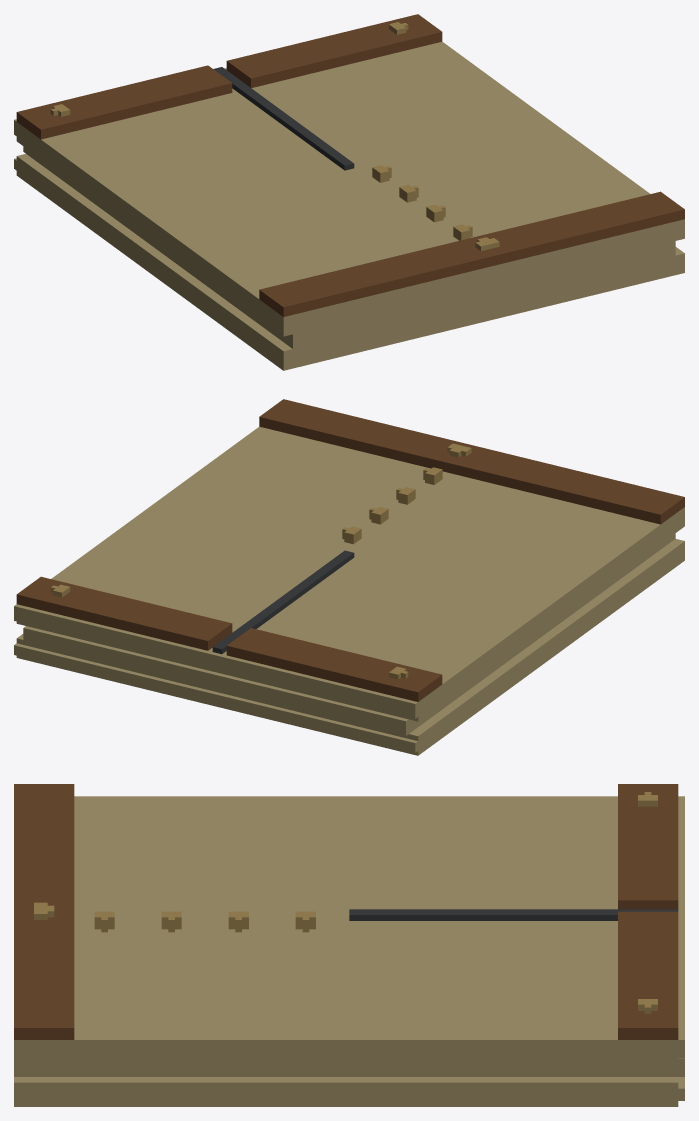
The model's file is breeches.glb.
The picture shows the model from 3 angles, top to bottom: view 1: azimuth 30°, elevation 25°; view 2: azimuth 150°, elevation 25°; view 3: azimuth 270°, elevation 25°; orthographic projection. The views are drawn at different scales.
Visible parts, largest first — view 1: breeches:compound; view 2: breeches:compound; view 3: breeches:compound.
Part boxes in pixels (x1=…): breeches:compound: x1=14, y1=14, x2=684, y2=370; breeches:compound: x1=14, y1=399, x2=684, y2=755; breeches:compound: x1=14, y1=784, x2=684, y2=1106.
Bounding box in the file's own units: 0.344 × 0.056 × 0.4.
